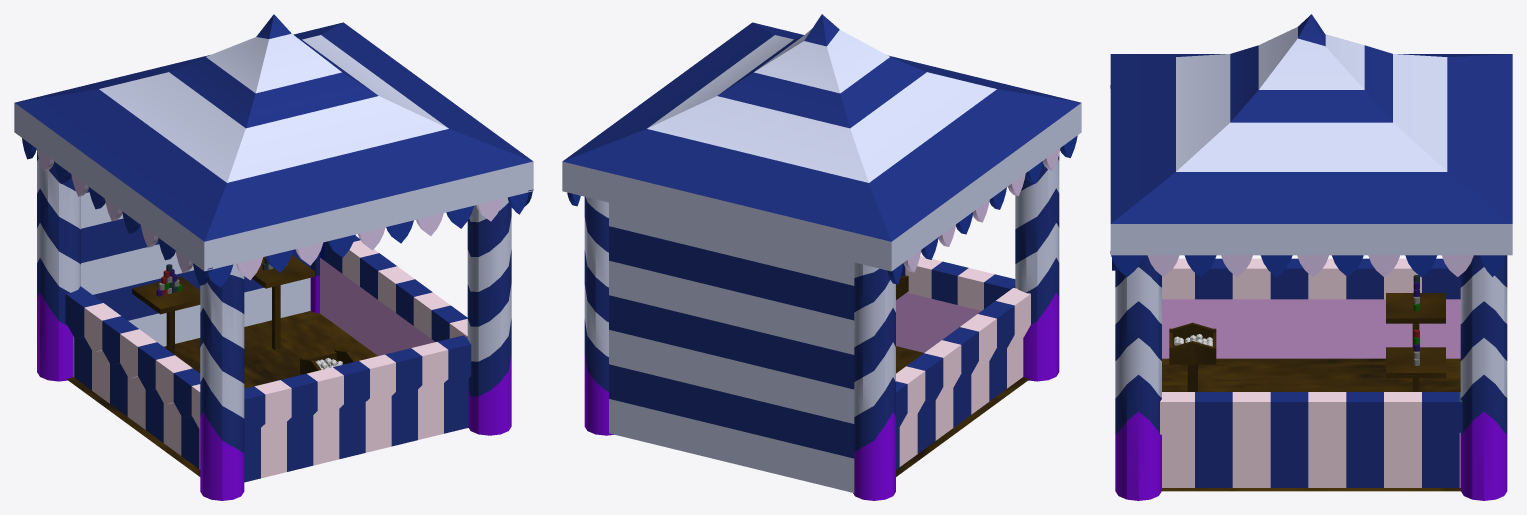
The model's file is BarracaLata.fbx.
The picture shows the model from 3 angles, left to right: view 1: azimuth 30°, elevation 25°; view 2: azimuth 150°, elevation 25°; view 3: azimuth 270°, elevation 25°; orthographic projection. The views are drawn at different scales.
Visible parts, largest first — view 1: BarraquinhaDelata, Bandeirolas, Bolinhas; view 2: BarraquinhaDelata, Bandeirolas; view 3: BarraquinhaDelata, Bandeirolas, Bolinhas.
Boxes of the visible parts, x1,y1,x2,y2 form: BarraquinhaDelata: (14, 14, 533, 500); Bandeirolas: (22, 138, 533, 287); Bolinhas: (300, 349, 356, 374); BarraquinhaDelata: (562, 14, 1081, 500); Bandeirolas: (567, 135, 1077, 284); BarraquinhaDelata: (1110, 14, 1512, 500); Bandeirolas: (1110, 85, 1504, 277); Bolinhas: (1169, 322, 1216, 364).
Bounding box in the file's own units: 592 × 662 × 592.
1 material, 1 textured.
